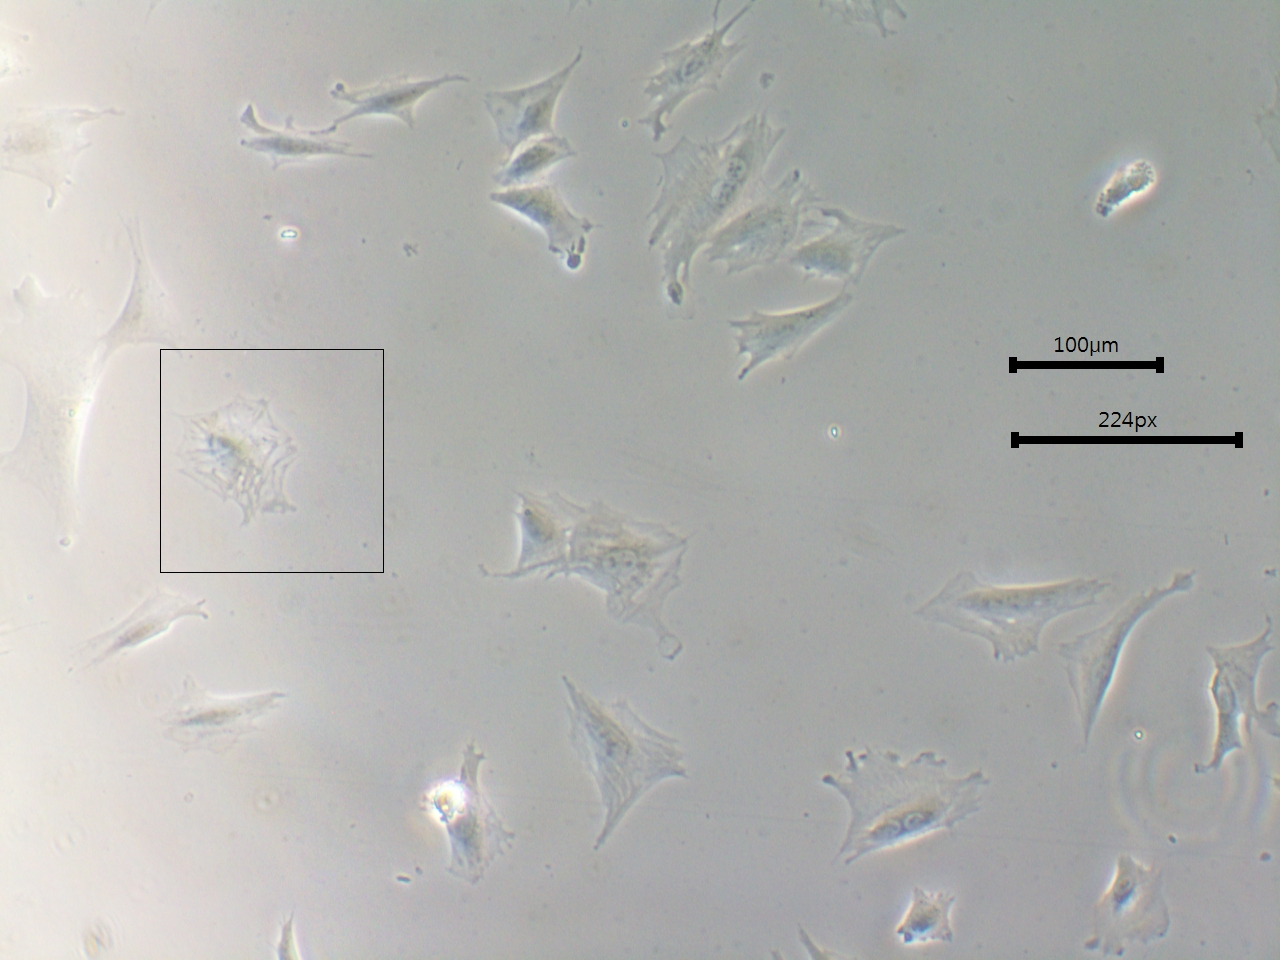medium-spread: (173, 394, 303, 535)
small-polygonal: (79, 584, 212, 673)
